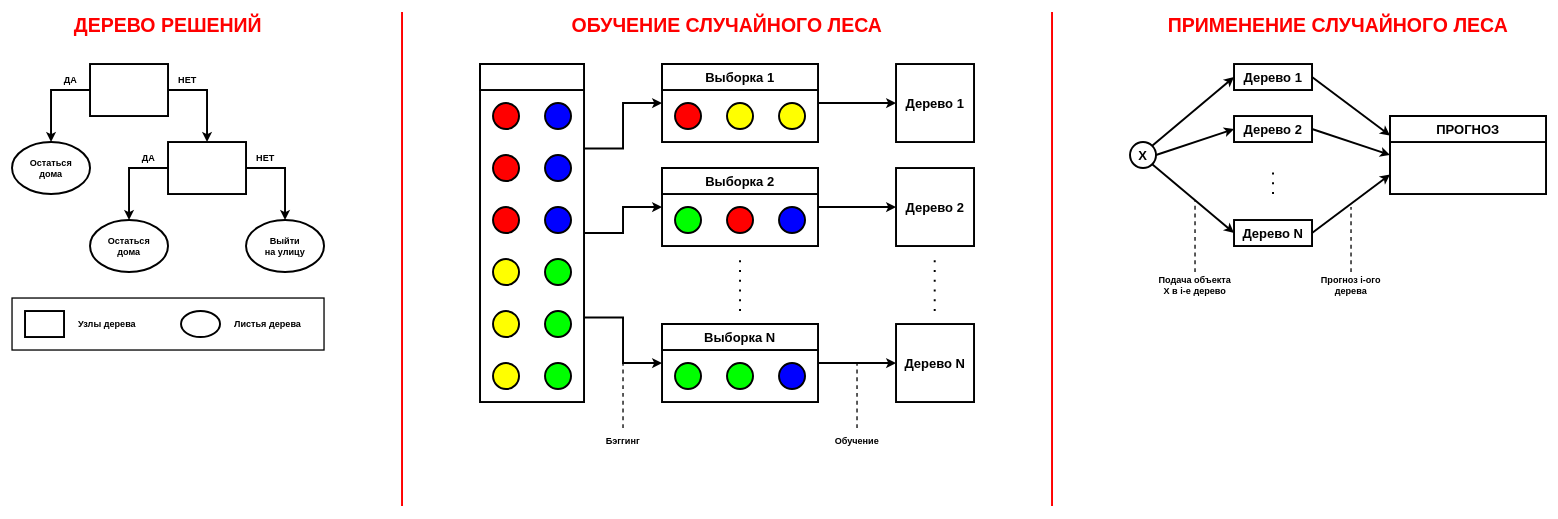
Image size: 1558x519. Some labels were removed from this diagram. Each missing label, with the centre of its shape:
"Идет дождь?" belongs at point 129,90.
"Исходные данные" belongs at point 532,77.
"На улице холодно?" belongs at point 207,168.
"Среднее арифметическое" belongs at point 1468,168.
